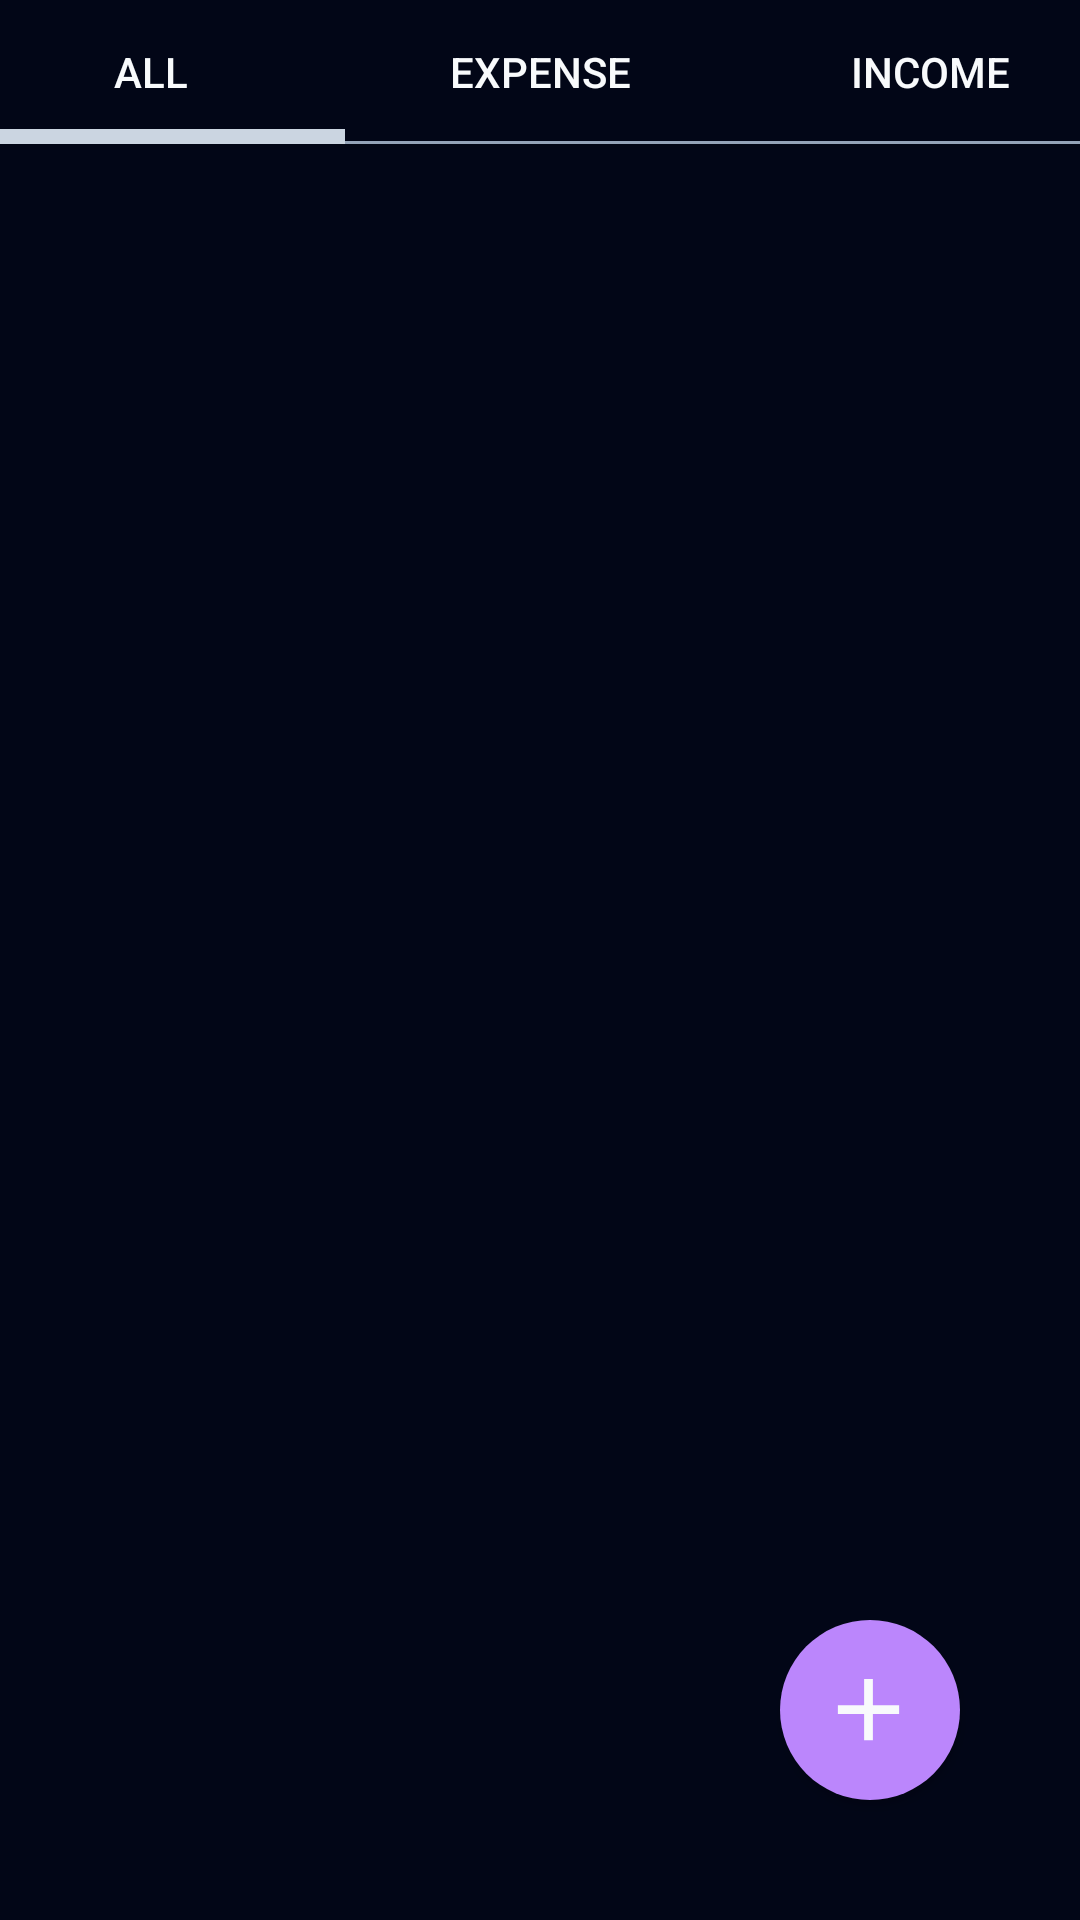

Where to tap for icons on this 1080 × 1920 app screen, as (x,y):
add: (870,1710)
